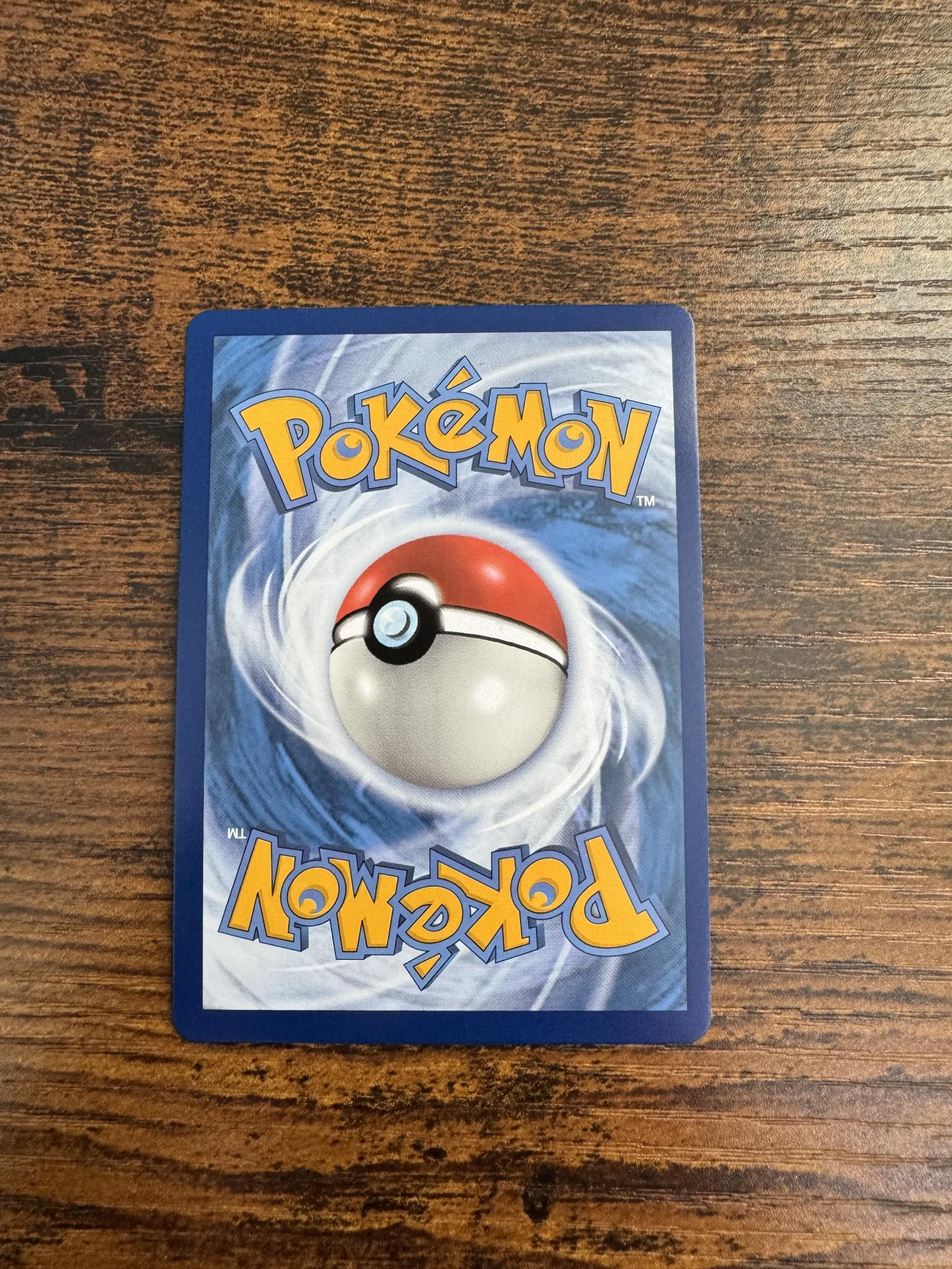card-2UtV: (172, 304, 711, 1044)
